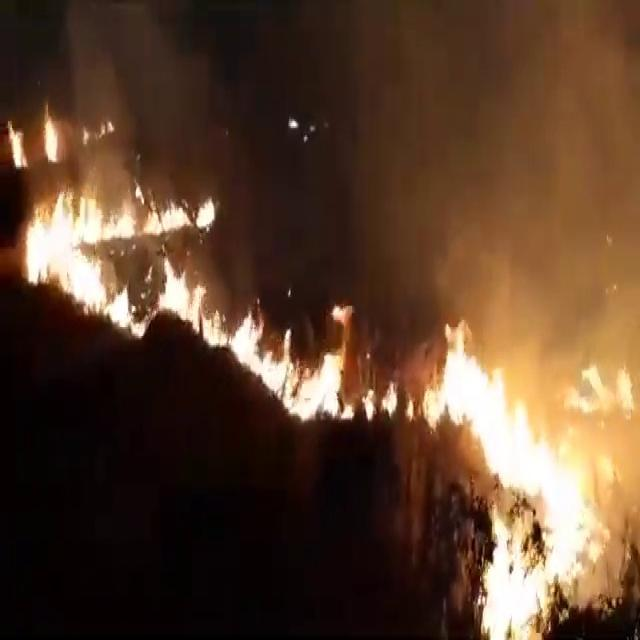Fire: (420, 330, 607, 632), (154, 208, 361, 452), (34, 192, 143, 324), (565, 358, 634, 416), (42, 103, 61, 162), (6, 119, 28, 169)
Smoke: (345, 0, 638, 294)
